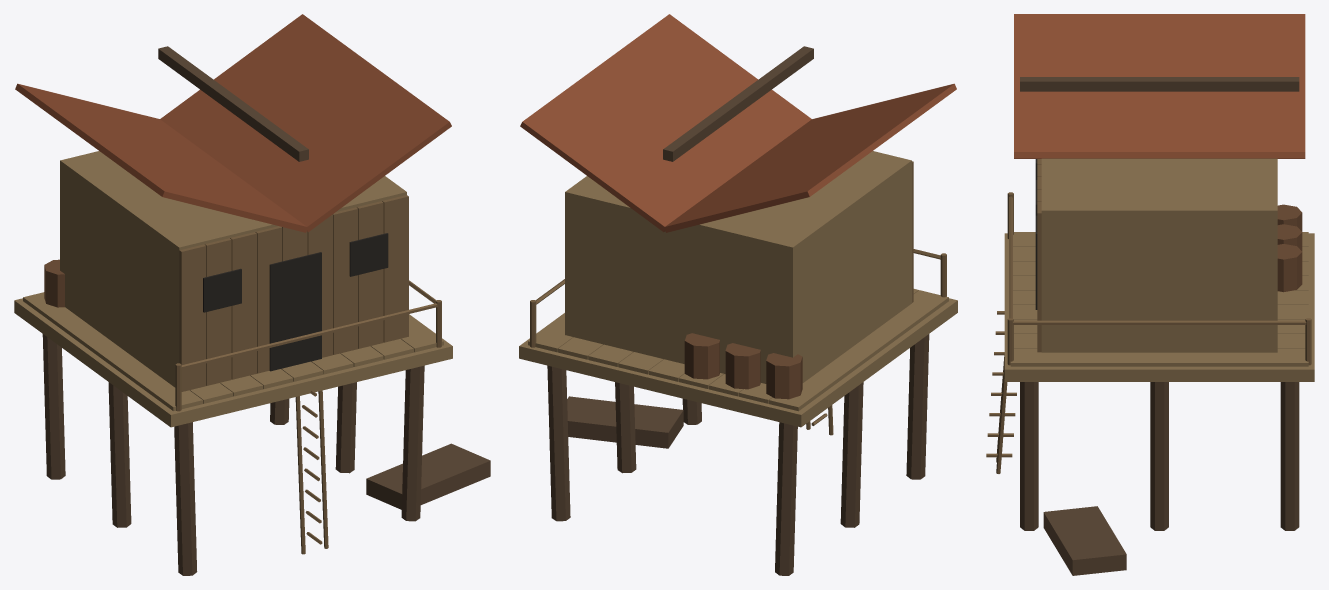
File: S_StiltHouse.glb
3 views of the same model, side by side, from view 1: azimuth 30°, elevation 25°; view 2: azimuth 150°, elevation 25°; view 3: azimuth 270°, elevation 25° (orthographic).
Parts seen in each view (by area): view 1: S_StiltHouse; view 2: S_StiltHouse; view 3: S_StiltHouse.
Boxes of the visible parts, left/top/right/bottom form: S_StiltHouse: left=14, top=14, right=490, bottom=575; S_StiltHouse: left=519, top=14, right=957, bottom=575; S_StiltHouse: left=986, top=14, right=1314, bottom=575.
Size of the model in its own units: 6.6 by 7.01 by 5.29.
